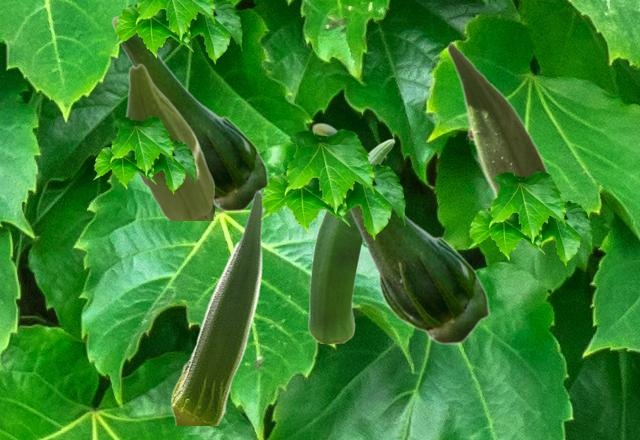okra: (311, 122, 489, 344), (111, 15, 268, 211), (170, 189, 263, 424), (307, 138, 394, 342), (446, 42, 549, 199), (125, 63, 213, 219)
